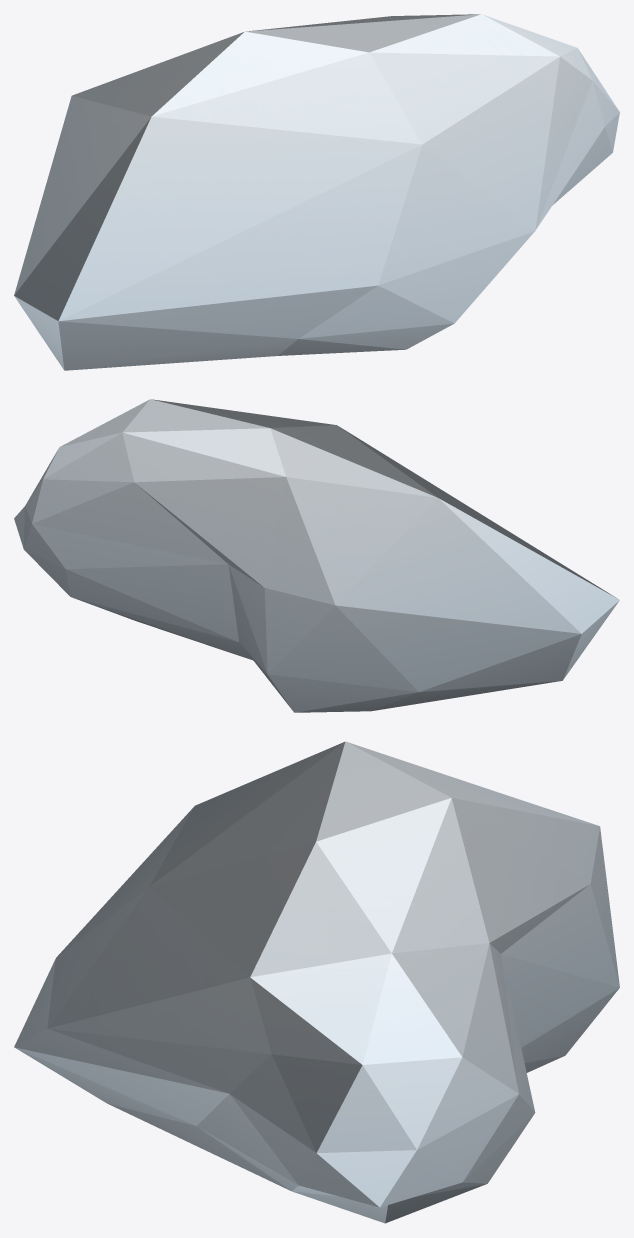
Rendered from Snowy_Cloud_002.FBX.
3 views of the same model, one above another, from view 1: azimuth 30°, elevation 25°; view 2: azimuth 150°, elevation 25°; view 3: azimuth 270°, elevation 25° (orthographic). The views are drawn at different scales.
Parts seen in each view (by area): view 1: Snowy_Cloud_002; view 2: Snowy_Cloud_002; view 3: Snowy_Cloud_002.
Part boxes in pixels (bbox=[...]): Snowy_Cloud_002: bbox=[14, 14, 619, 370]; Snowy_Cloud_002: bbox=[14, 399, 619, 712]; Snowy_Cloud_002: bbox=[14, 741, 619, 1223].
Size of the model in its own units: 650 by 247 by 422.
1 material, 1 textured.
